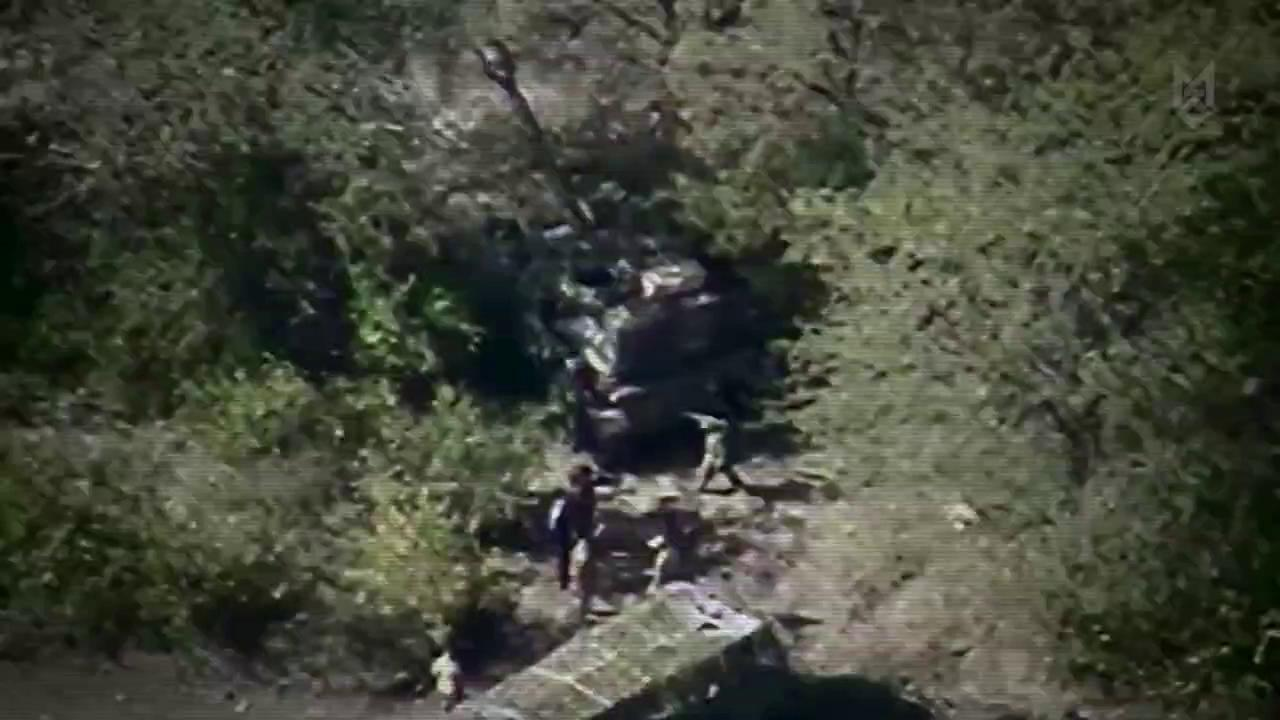tank: (418, 39, 753, 470), (428, 579, 798, 720)
